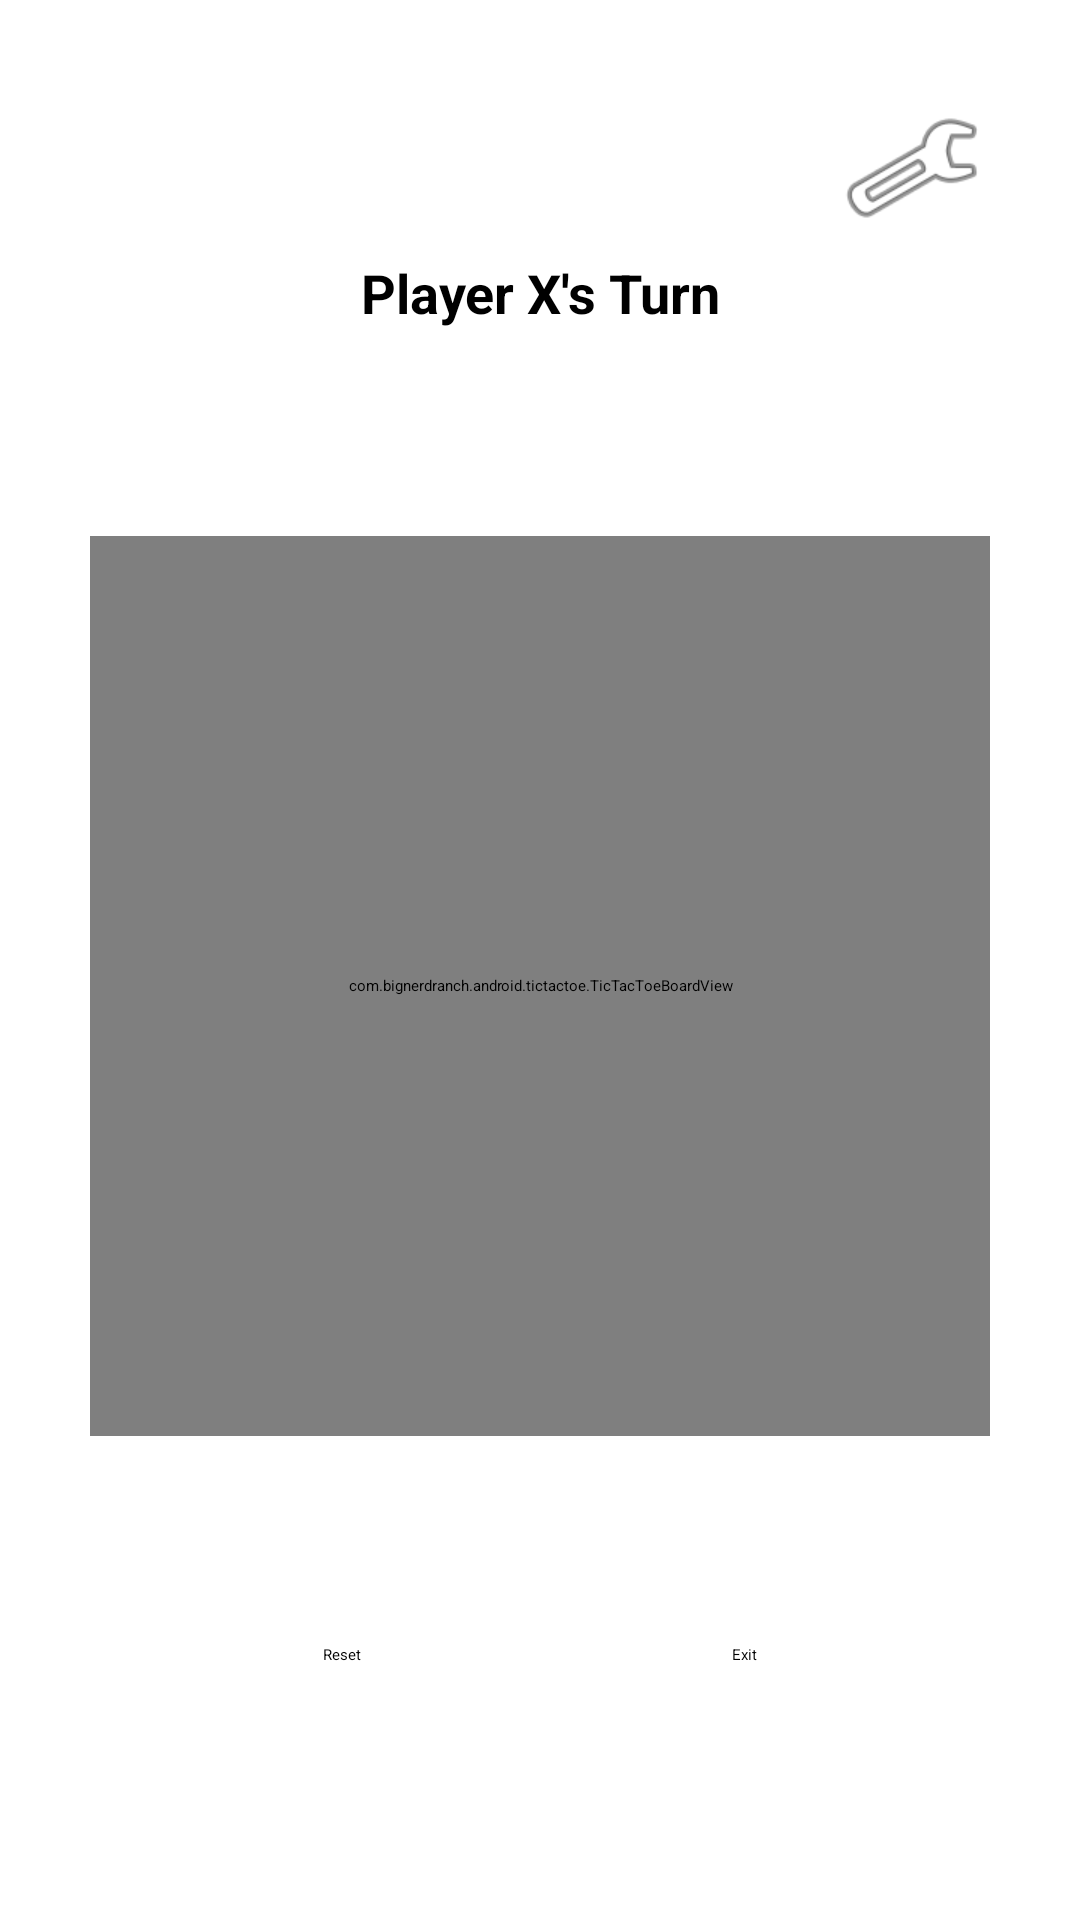

Named icons in this screenshot (1080×1920) and their bounding boxes, (left=x1, top=y1, right=x2, bottom=y2):
Settings: (left=847, top=118, right=977, bottom=218)
